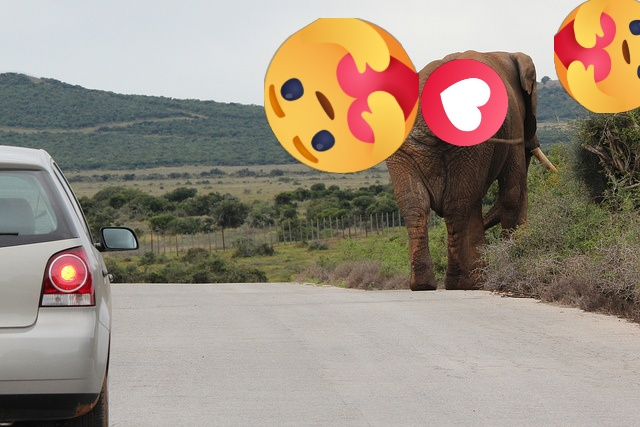care: (264, 18, 419, 173), (554, 0, 640, 113)
love: (421, 59, 508, 146)
